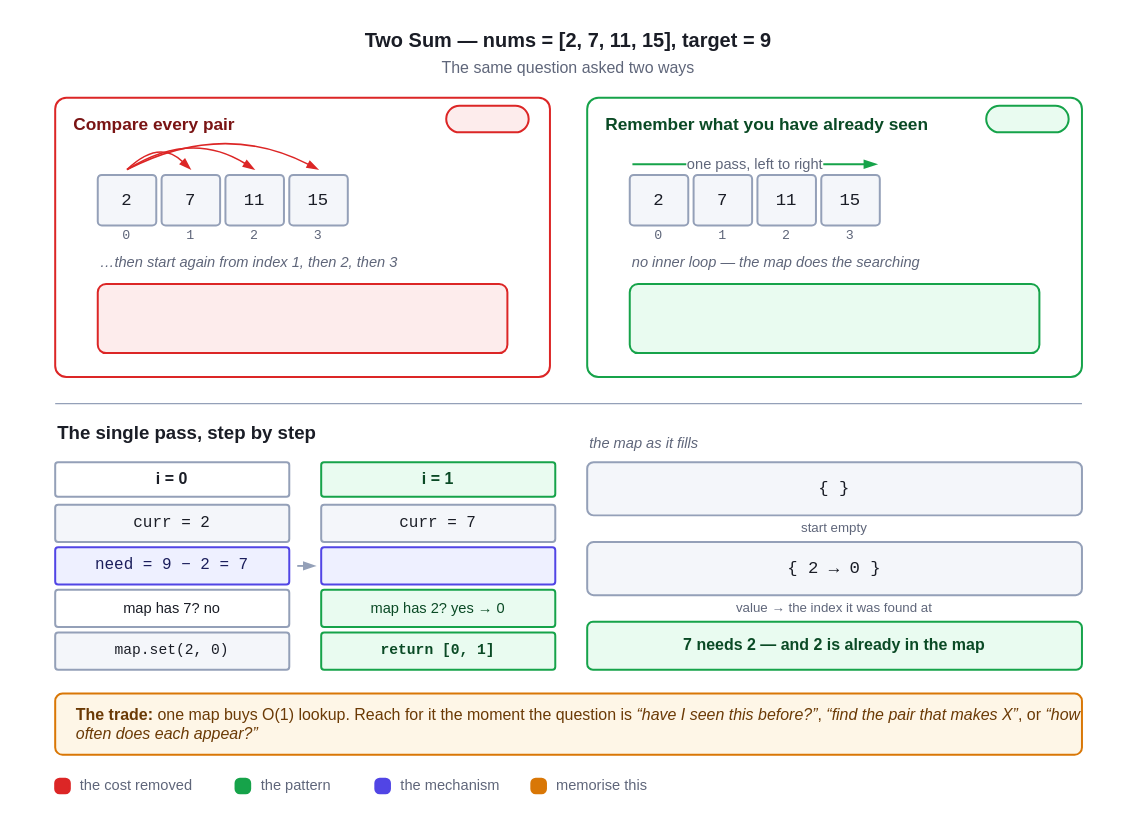
This 1136x819 diagram has some shape labels left out. The shapes that lost their labels are listed below. From the top down, each one's centre as x and y in pixels, then its label:
point (487, 118): O(N²)
point (1027, 118): O(N)
point (302, 318): 6 comparisons for 4 items. 1,000 items → 499,500 comparisons.
point (834, 318): Each item is read once. 1,000 items → 1,000 lookups.
point (438, 565): need = 9 − 7 = 2
